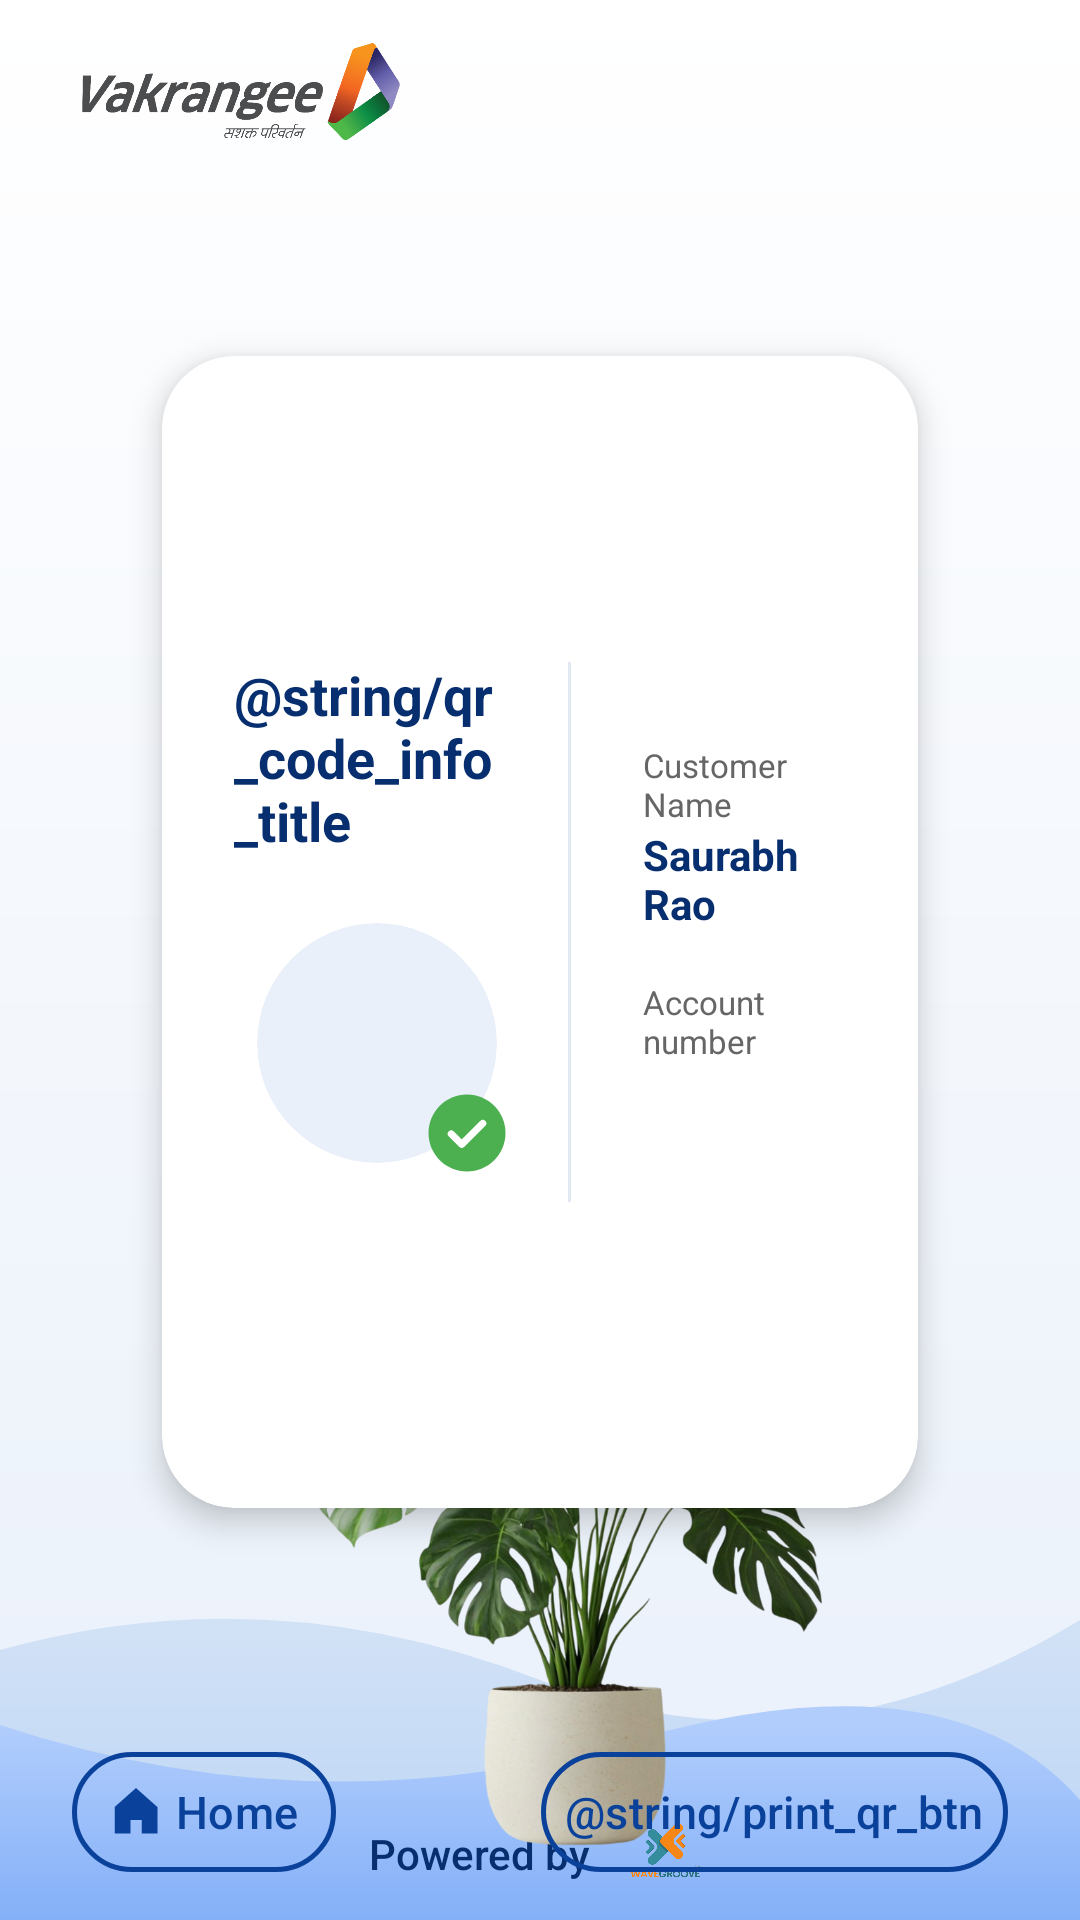

Where icons sit on this 1080 x 1920 app screen, as (x1, y1, x2, y2):
Verified Status: (428, 1094, 506, 1172)
